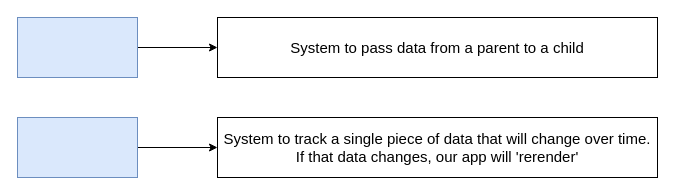
This 675x195 diagram has some shape labels left out. The box of each missing label's shape, as (x1, y1, x2, y2) in pixels:
Props: (16, 16, 138, 78)
State: (16, 116, 138, 178)
